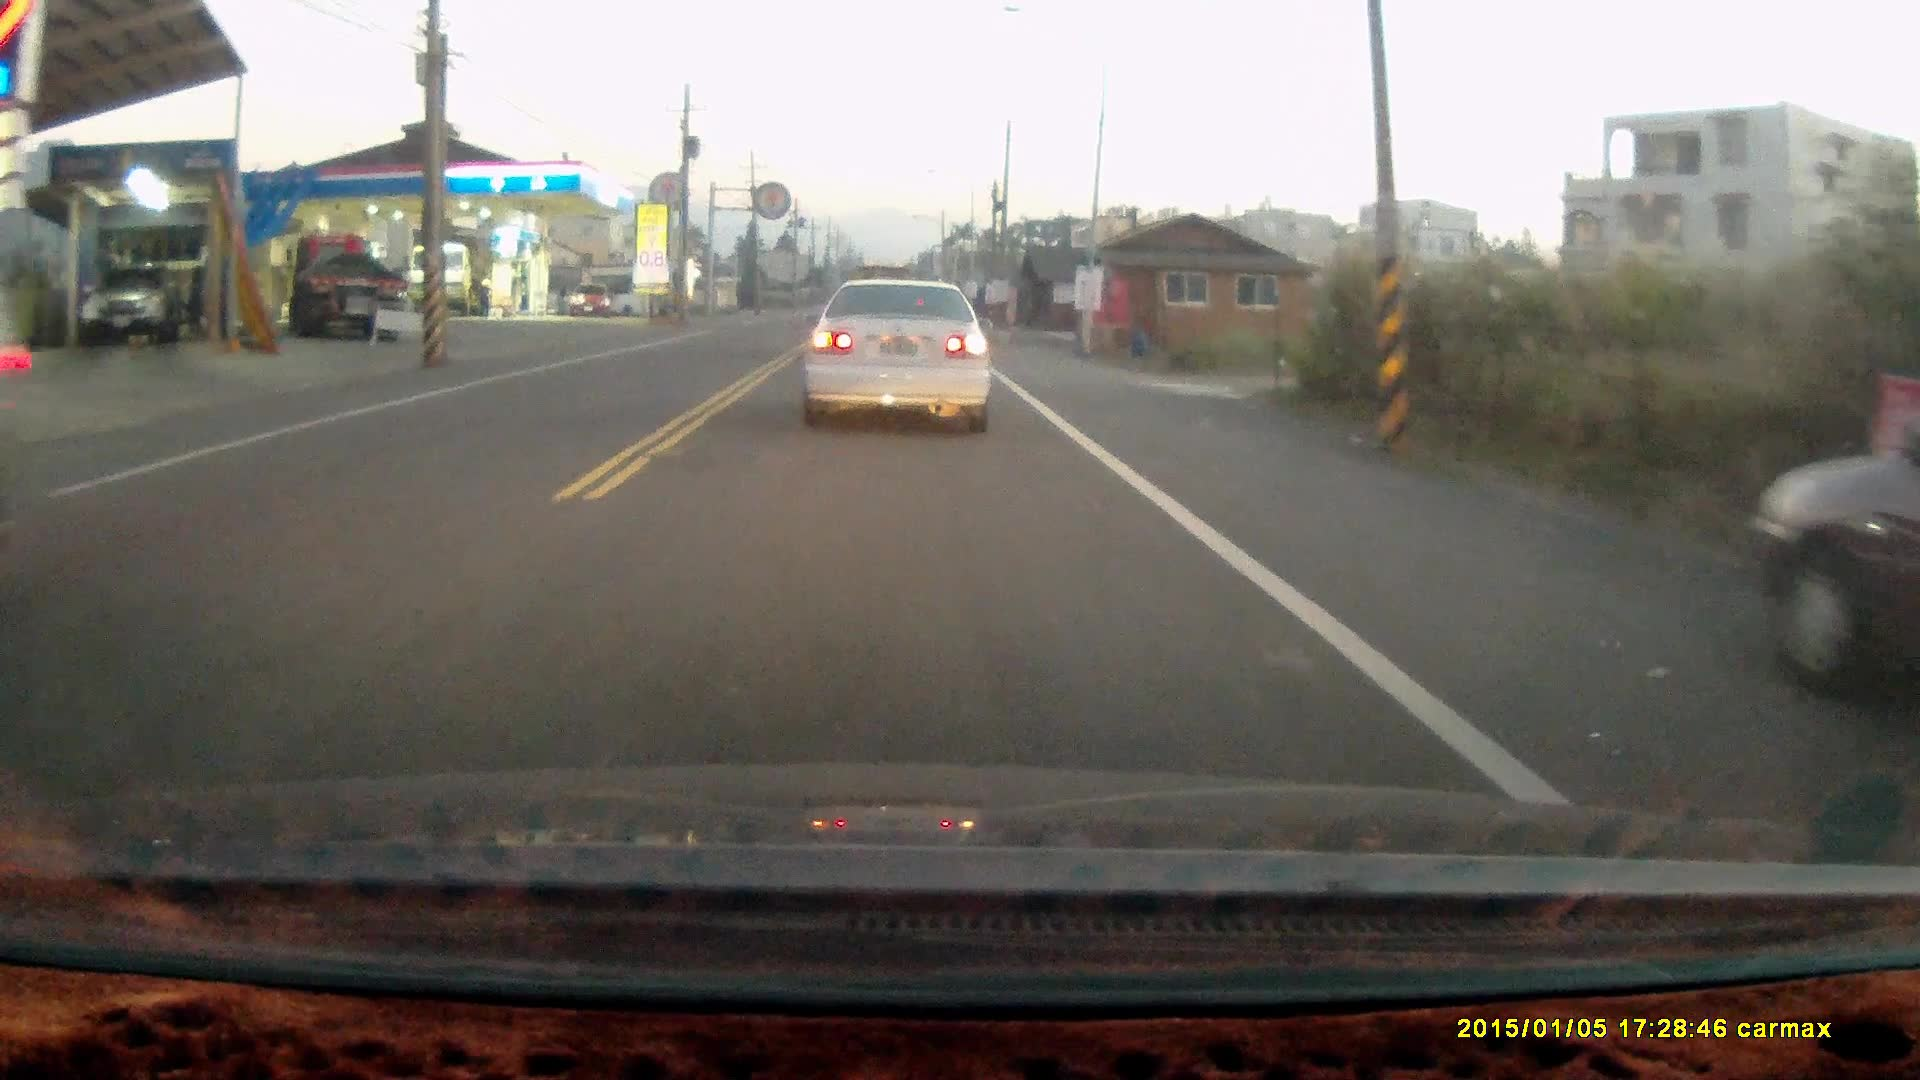pedestrian: (475, 271, 495, 315)
vehicle: (1755, 438, 1920, 724), (795, 286, 995, 447), (285, 240, 409, 349), (401, 236, 489, 321), (570, 285, 613, 319)
